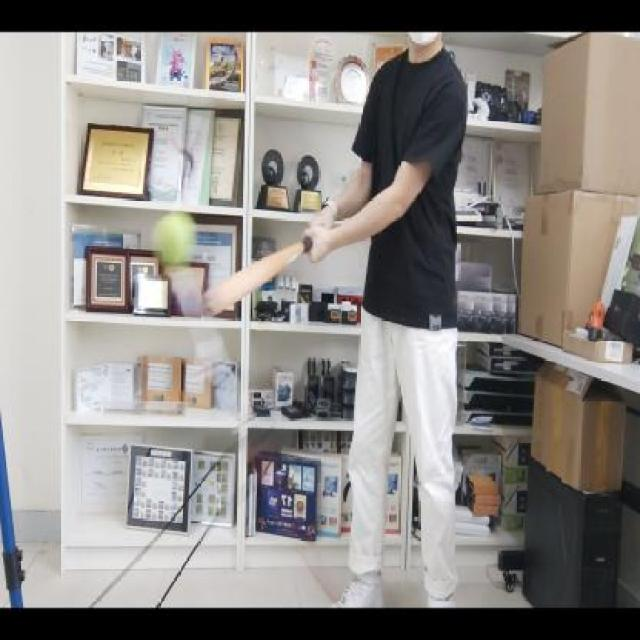baseball: (149, 206, 202, 274)
